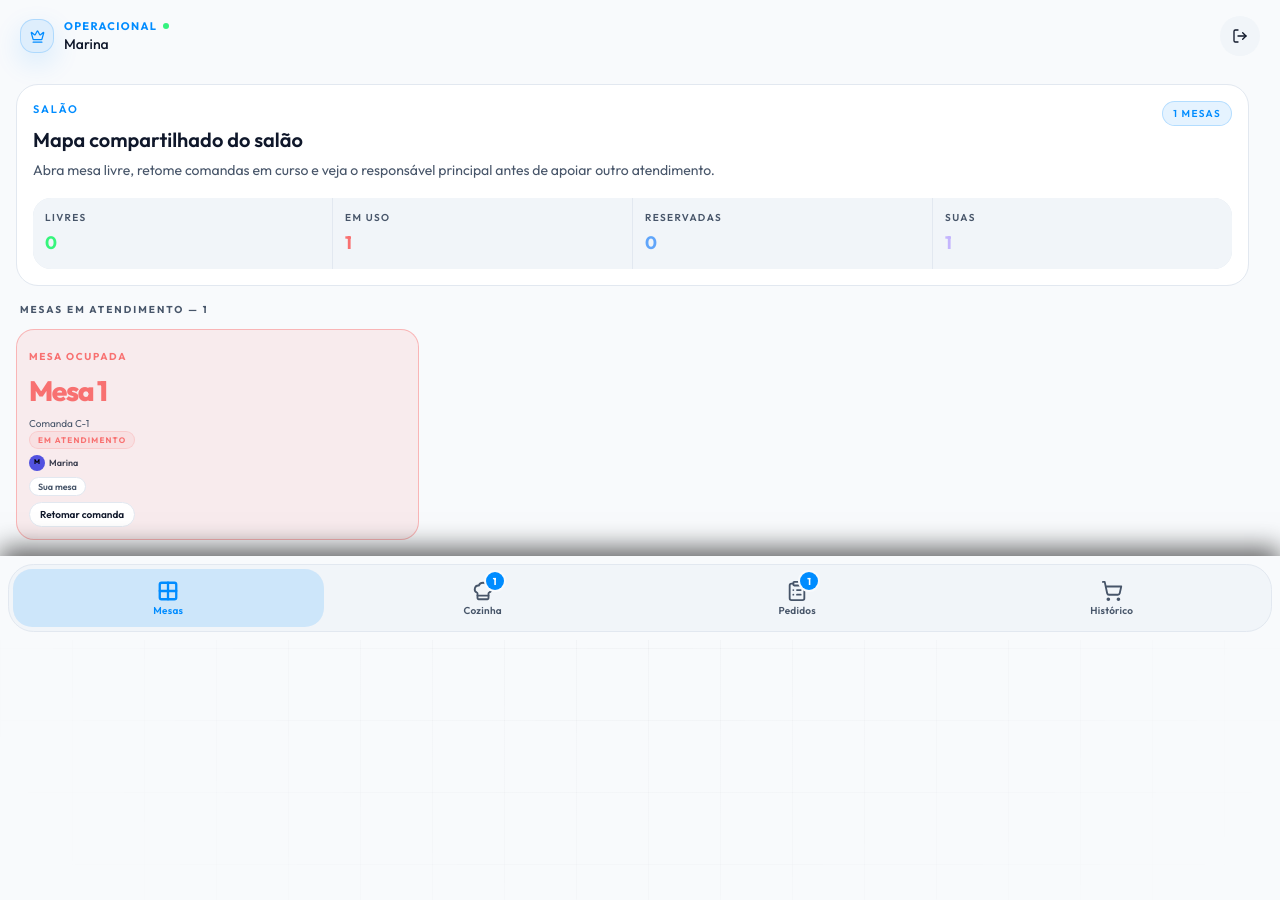
StaffMobileShell › abre a comanda ao tocar em uma mesa ocupada e só depois edita itens
Click the button with test id "mobile-mesa-mesa-1" at (78, 356), box [16,328,419,540]
(page scrolled)
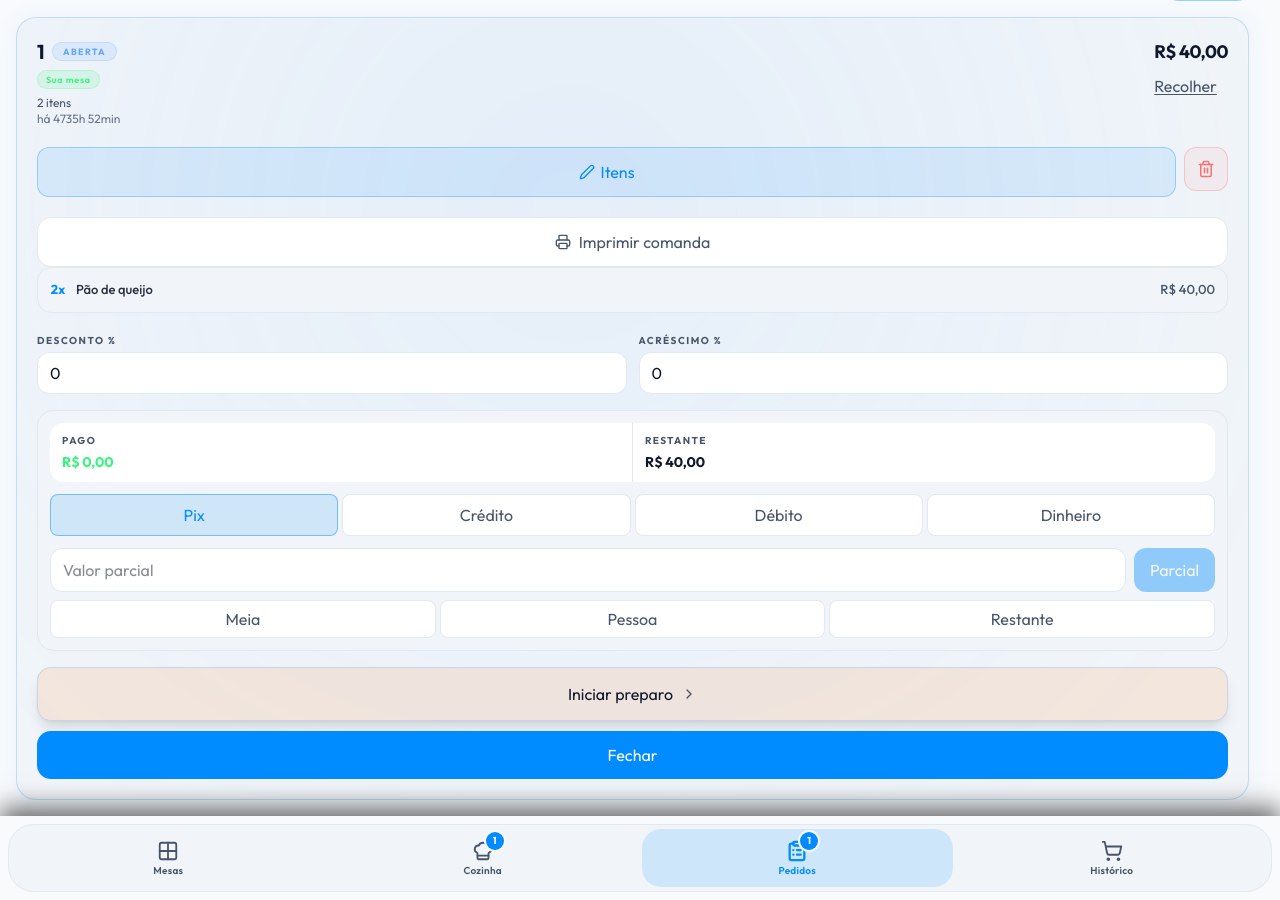
Expected: the text "Sua mesa" is shown, [37,70,100,89]
Click the button "Itens" at (606, 172), box [37,147,1176,197]
(page scrolled)
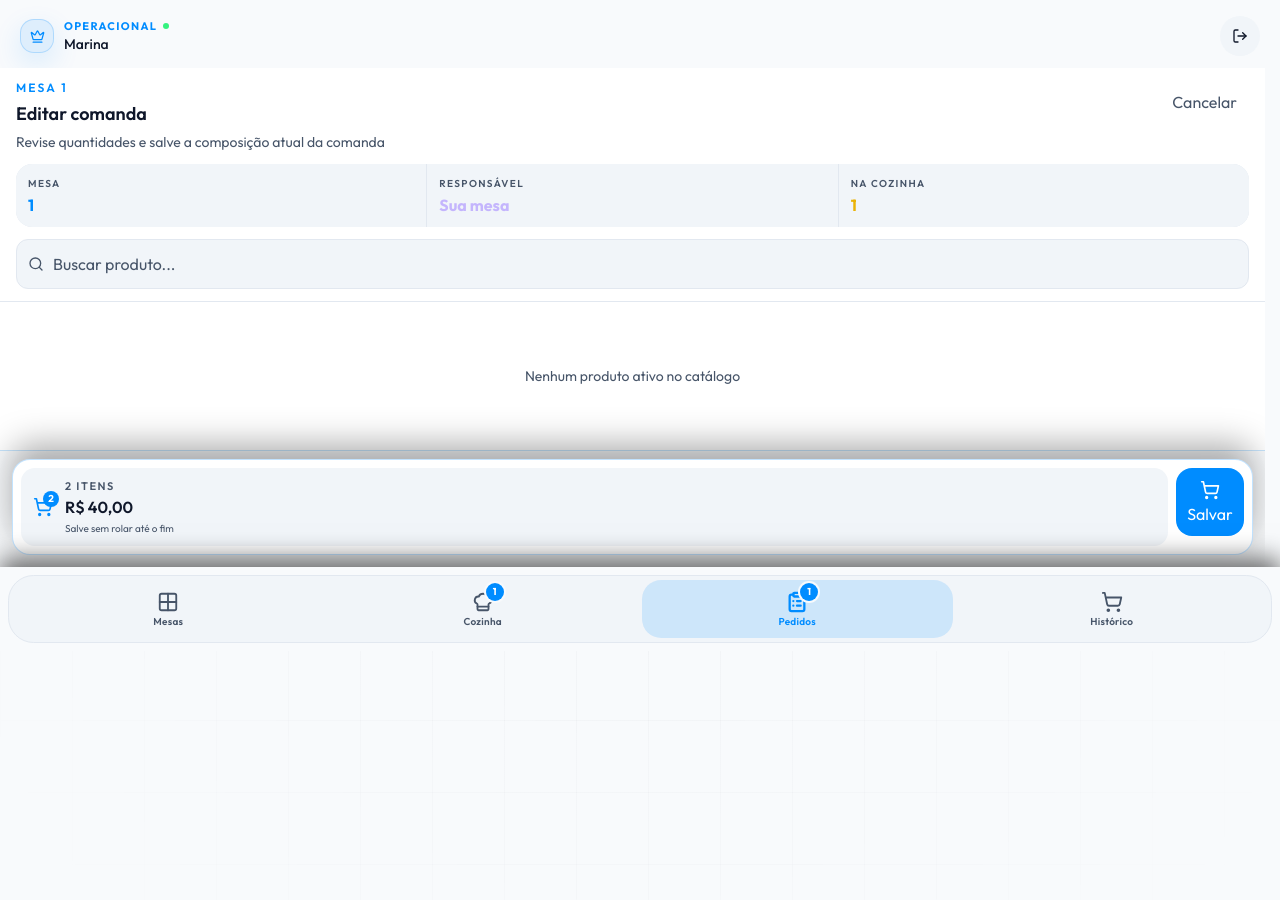
Expected: the text "Responsável" is shown, [439,177,524,190]
Expected: the heading "Editar comanda" is shown, [16,102,147,125]
